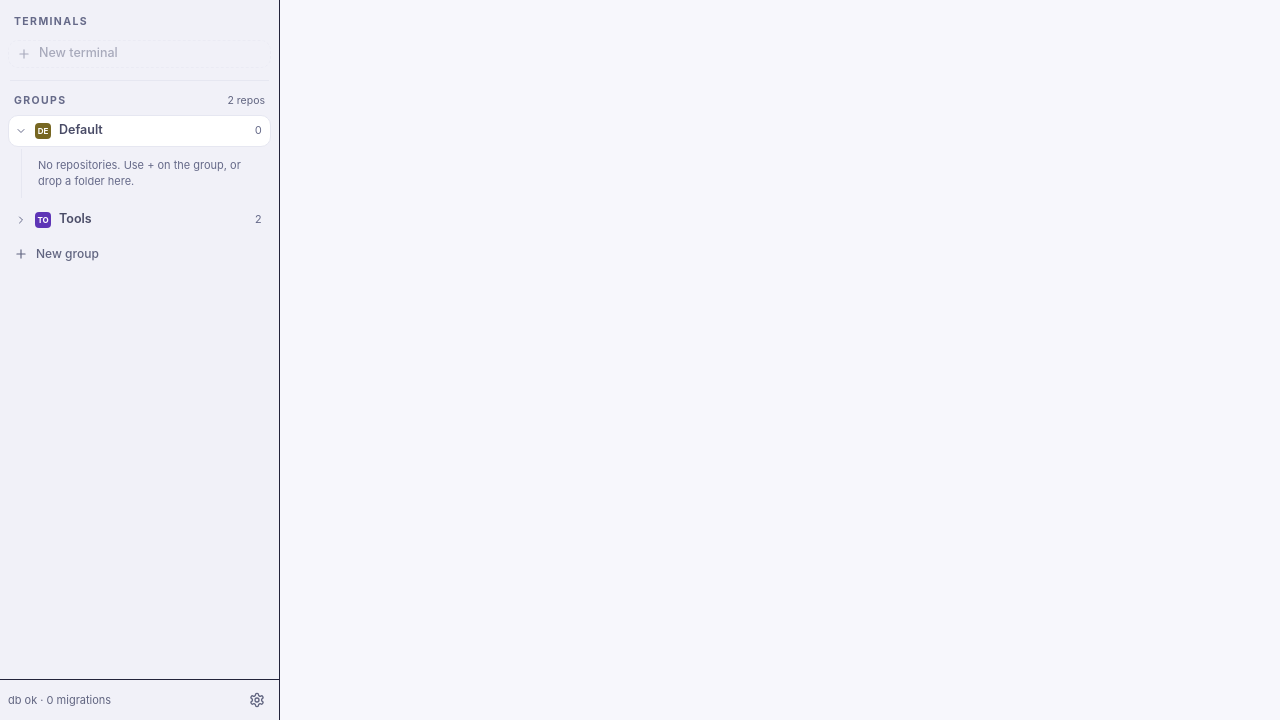
Group context menu — Remove N missing (#317) › warns when a missing target is the group's synced root
The image size is (1280, 720).
Expected: the text "2 repos" is shown, [228,93,265,109]
Right-click the button "Tools" at (153, 220), box [59,210,247,229]
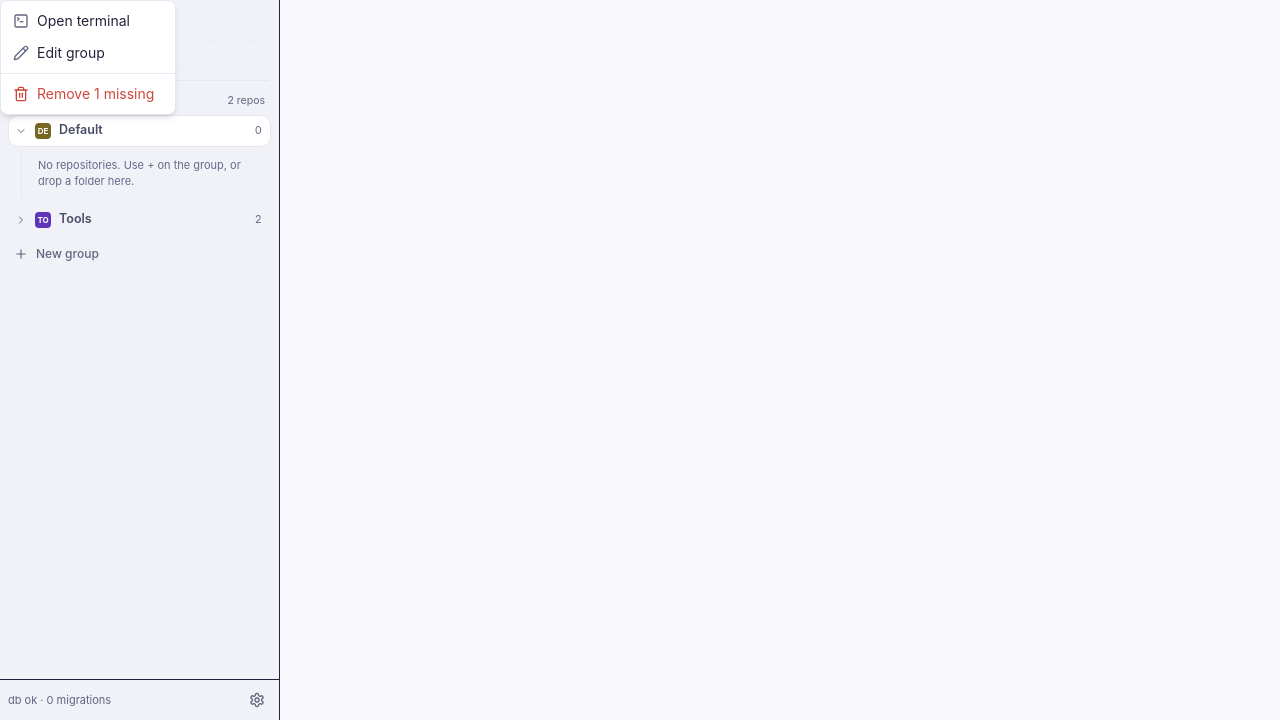
Click the menu item "Remove 1 missing". click: (88, 94)
box: [1,78,175,110]
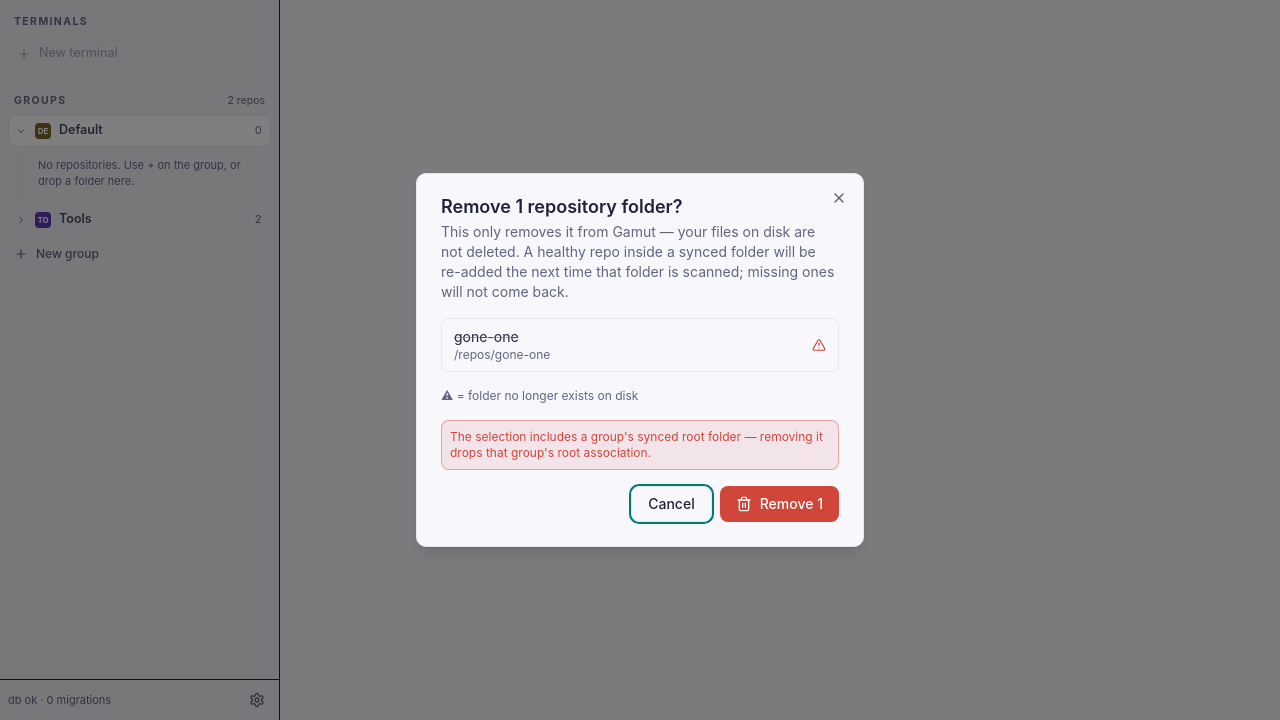
Now the text "synced root folder" is shown, box [450,429,823,460]
